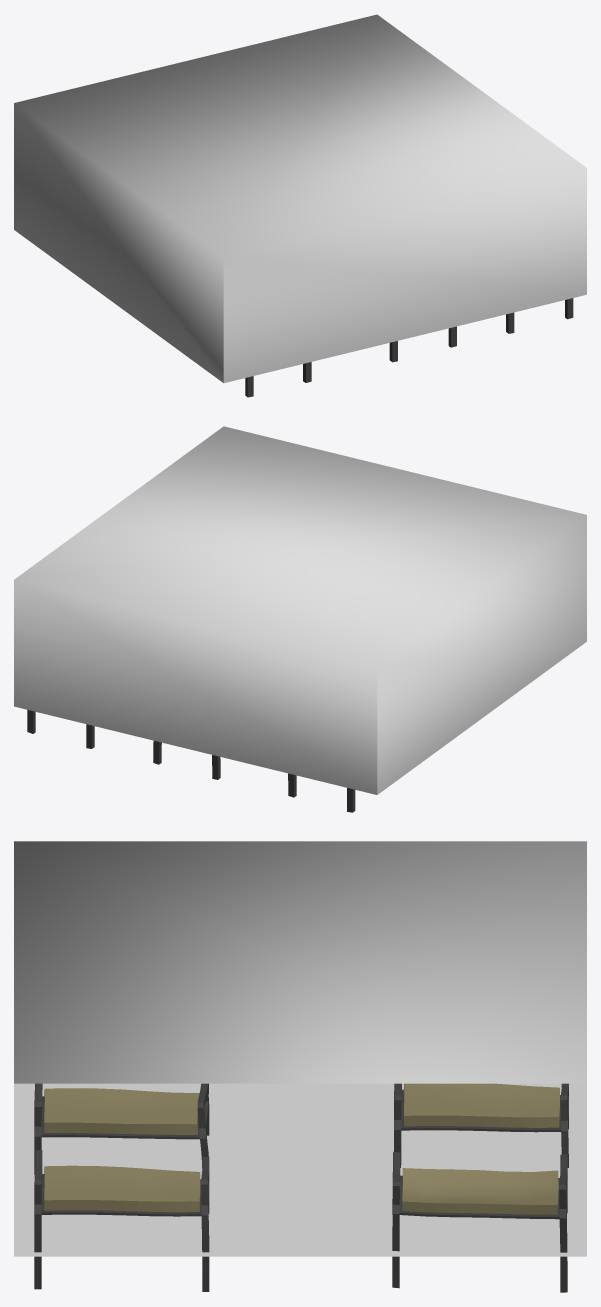
The model's file is hospital  fixed.fbx.
3 renders of one model, top to bottom at view 1: azimuth 30°, elevation 25°; view 2: azimuth 150°, elevation 25°; view 3: azimuth 270°, elevation 25°, orthographic. The views are drawn at different scales.
Parts seen in each view (by area): view 1: Плоскость; view 2: Плоскость; view 3: Плоскость, Куб.065, Куб.062, Куб.061, Куб.063.
Boxes of the visible parts, x1,y1,x2,y2 form: Плоскость: [14, 14, 586, 383]; Плоскость: [14, 426, 586, 794]; Плоскость: [14, 841, 586, 1256]; Куб.065: [34, 1150, 209, 1291]; Куб.062: [392, 1151, 567, 1292]; Куб.061: [34, 1083, 209, 1174]; Куб.063: [394, 1083, 568, 1167].
Size of the model in its own units: 1200 by 498 by 1200.
